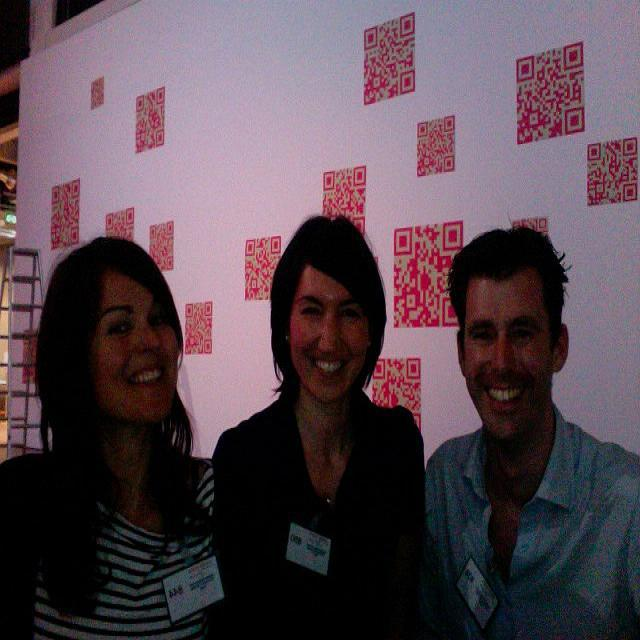qr-code: (393, 220, 462, 327), (516, 41, 584, 144), (363, 11, 414, 105), (587, 136, 637, 206), (372, 358, 420, 430), (322, 165, 365, 238), (417, 115, 454, 176), (245, 236, 280, 300), (51, 178, 79, 250), (135, 85, 164, 154), (185, 302, 211, 354), (149, 220, 173, 270), (106, 206, 133, 242), (512, 217, 546, 235), (91, 75, 103, 109)
